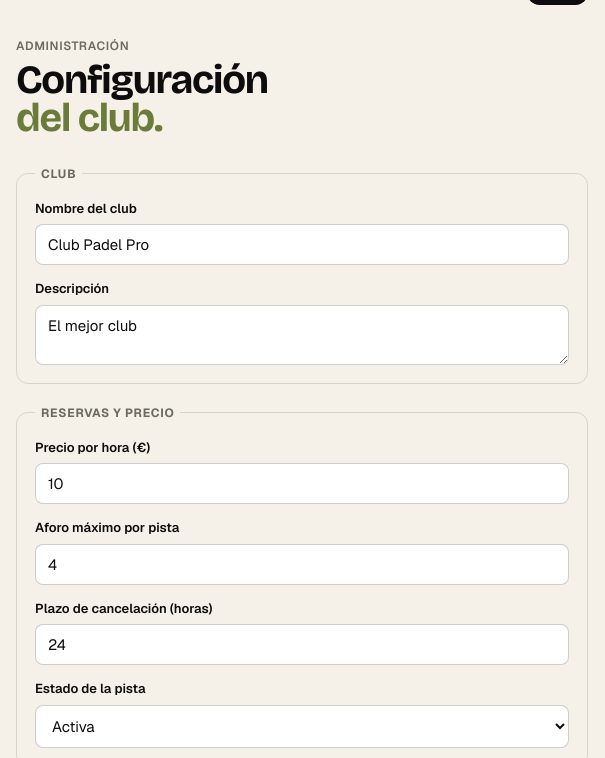
Test: ConfiguracionPage › guarda el precio por hora vía PATCH
The image size is (605, 758).
Replace the text in the number field labelled "Precio por hora (€)" with "12.5" at (302, 484), box [35,463,569,504]
(page scrolled)
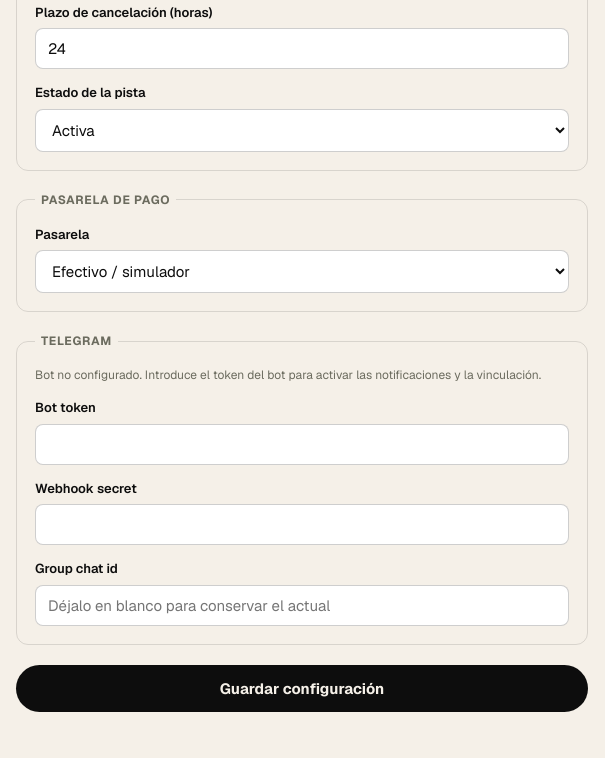
Click the button "Guardar configuración" at (302, 688), box [16,664,588,712]
(page scrolled)
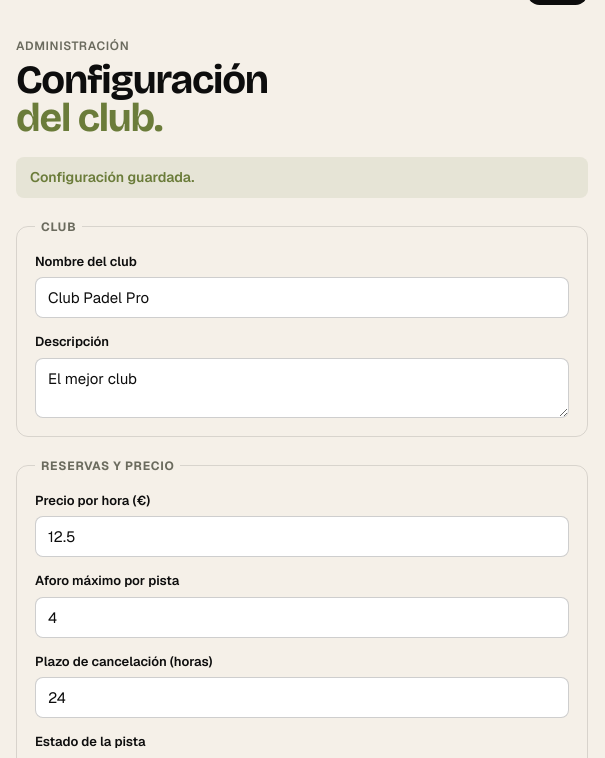
Result: the message shows "guardada" at [30,168,194,186]
